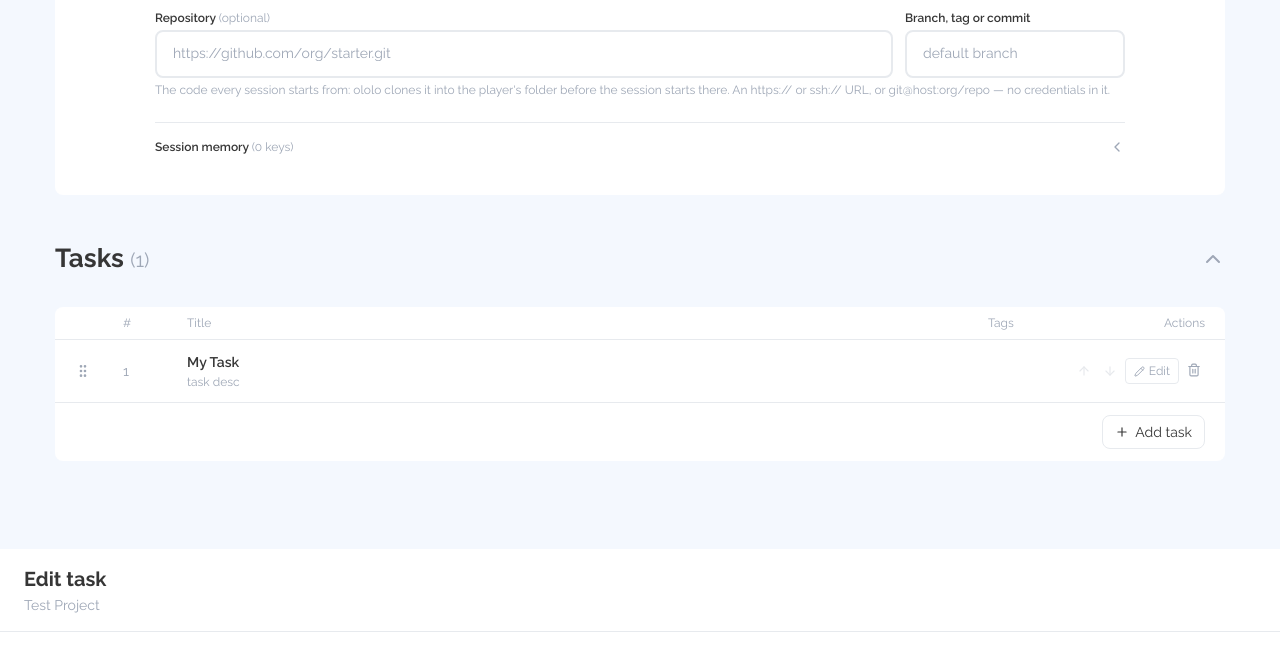
Test case: routes/projects/[id=uuid]/edit/+page.svelte › Clicking Edit button opens task form with title input
(page scrolled)
Click the button with test id "edit-task-btn-33333333-3333-3333-3333-333333333333": (1152, 371) x1=1125 y1=358 x2=1179 y2=384
(page scrolled)
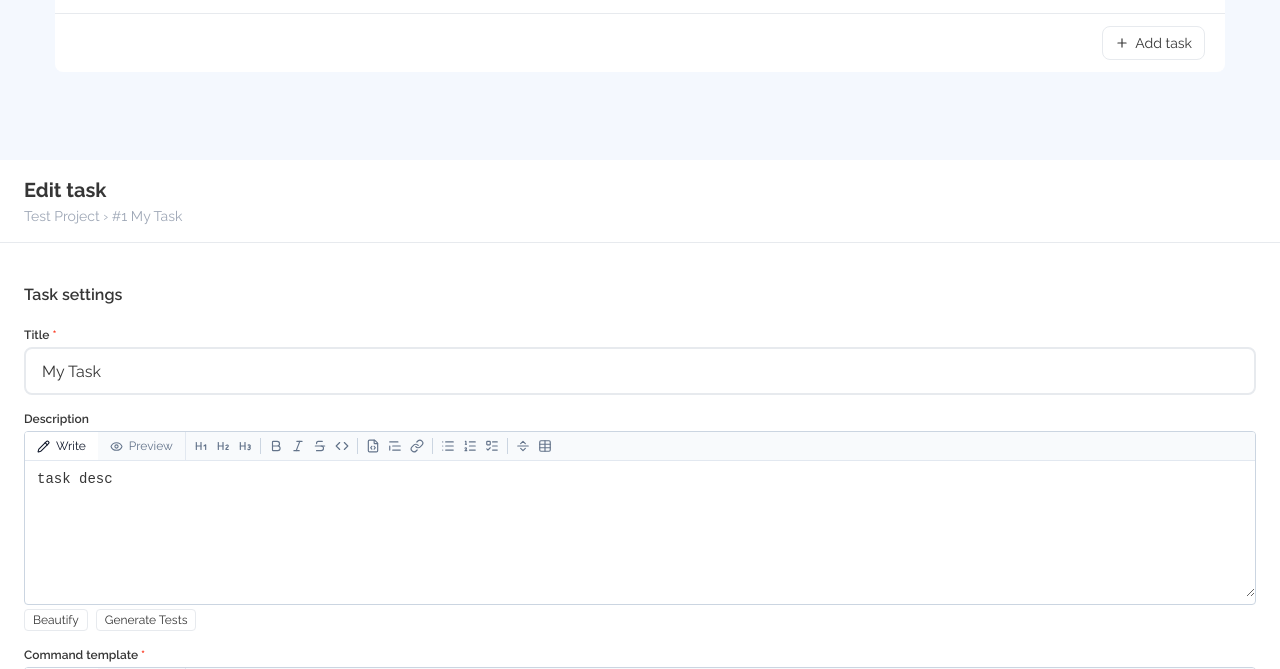
Expected: the field with test id "task-title" is shown, x1=24 y1=347 x2=1256 y2=395
